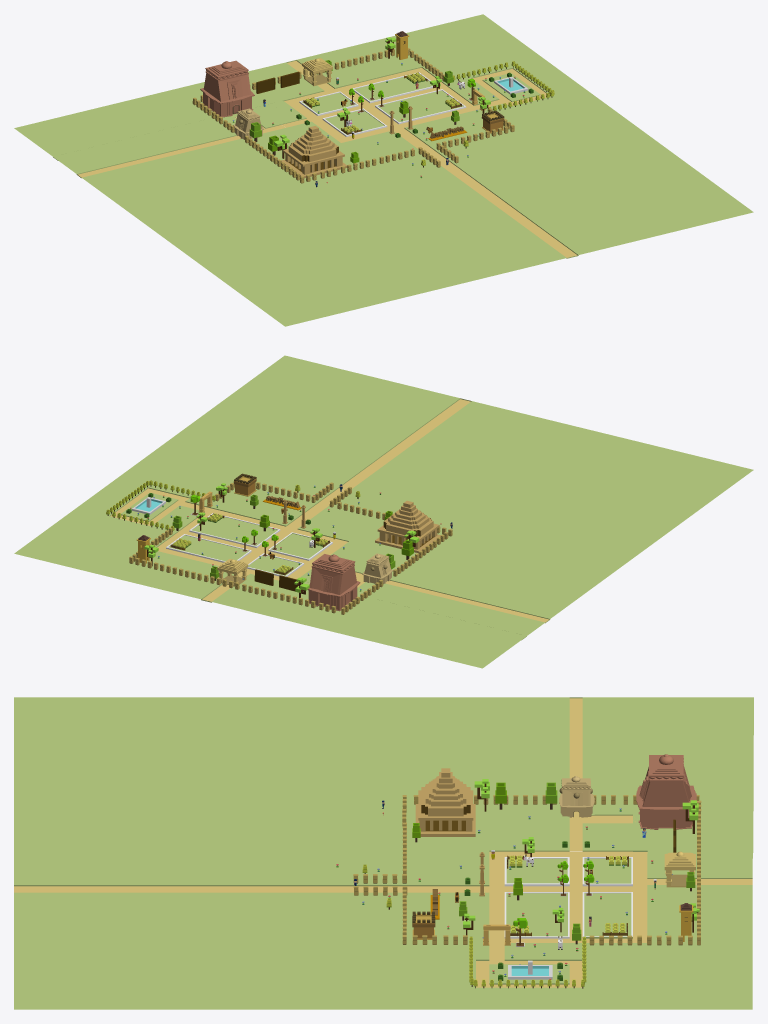
The model's file is aaryavartaGameSec.glb.
3 views of the same model, one above another, from view 1: azimuth 30°, elevation 25°; view 2: azimuth 150°, elevation 25°; view 3: azimuth 270°, elevation 25° (orthographic). The views are drawn at different scales.
Parts seen in each view (by area): view 1: ground, structuretemple, sourcesLink, structure, structuretemple.001; view 2: ground, structuretemple, sourcesLink, structuretemple.001, structure; view 3: ground, structuretemple, sourcesLink, structuretemple.001, structure, quizShrine, structurebunker.
Boxes of the visible parts, x1,y1,x2,y2 form: ground: (14,14,753,326); structuretemple: (200,60,254,117); sourcesLink: (281,126,347,178); structure: (302,58,332,85); structuretemple.001: (233,108,263,139); ground: (14,355,753,668); structuretemple: (307,554,360,611); sourcesLink: (375,500,440,553); structuretemple.001: (362,553,393,584); structure: (217,559,248,586); ground: (14,697,753,1009); structuretemple: (636,754,696,829); sourcesLink: (415,768,475,836); structuretemple.001: (559,776,594,817); structure: (664,851,695,887); quizShrine: (508,960,552,979); structurebunker: (412,911,435,939).
Size of what is drawn, in the model's own units: 3211 by 312 by 3218.
